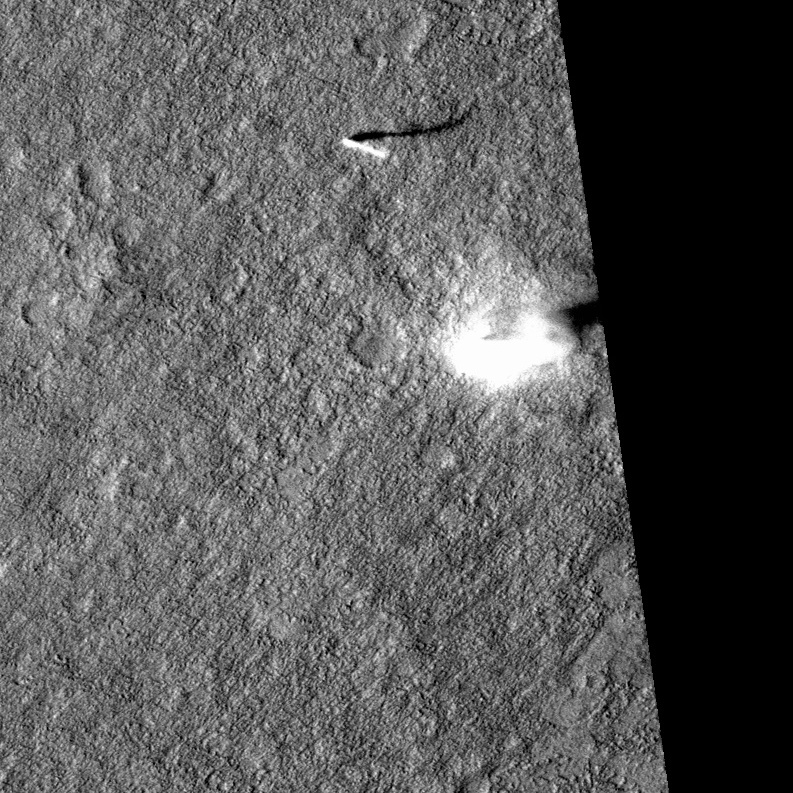dust_devil: (438, 291, 611, 394), (340, 106, 475, 162)
